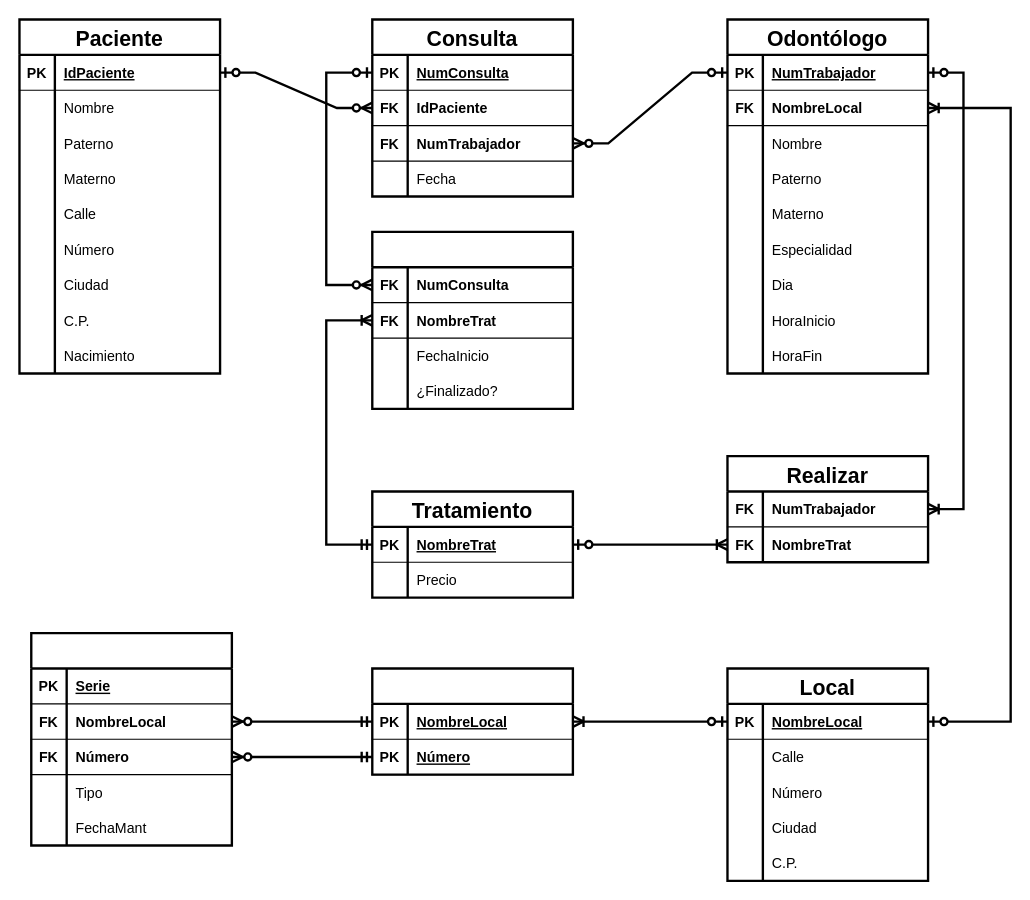
The diagram is 1030 pixels wide and 900 high, and some of its shapes have lost their labels. Here are the shapes that lost their labels. From the top down, the box of each, then its label:
(371, 230, 573, 409): Componer
(30, 631, 232, 846): Equipo
(371, 667, 573, 775): Consultorio
